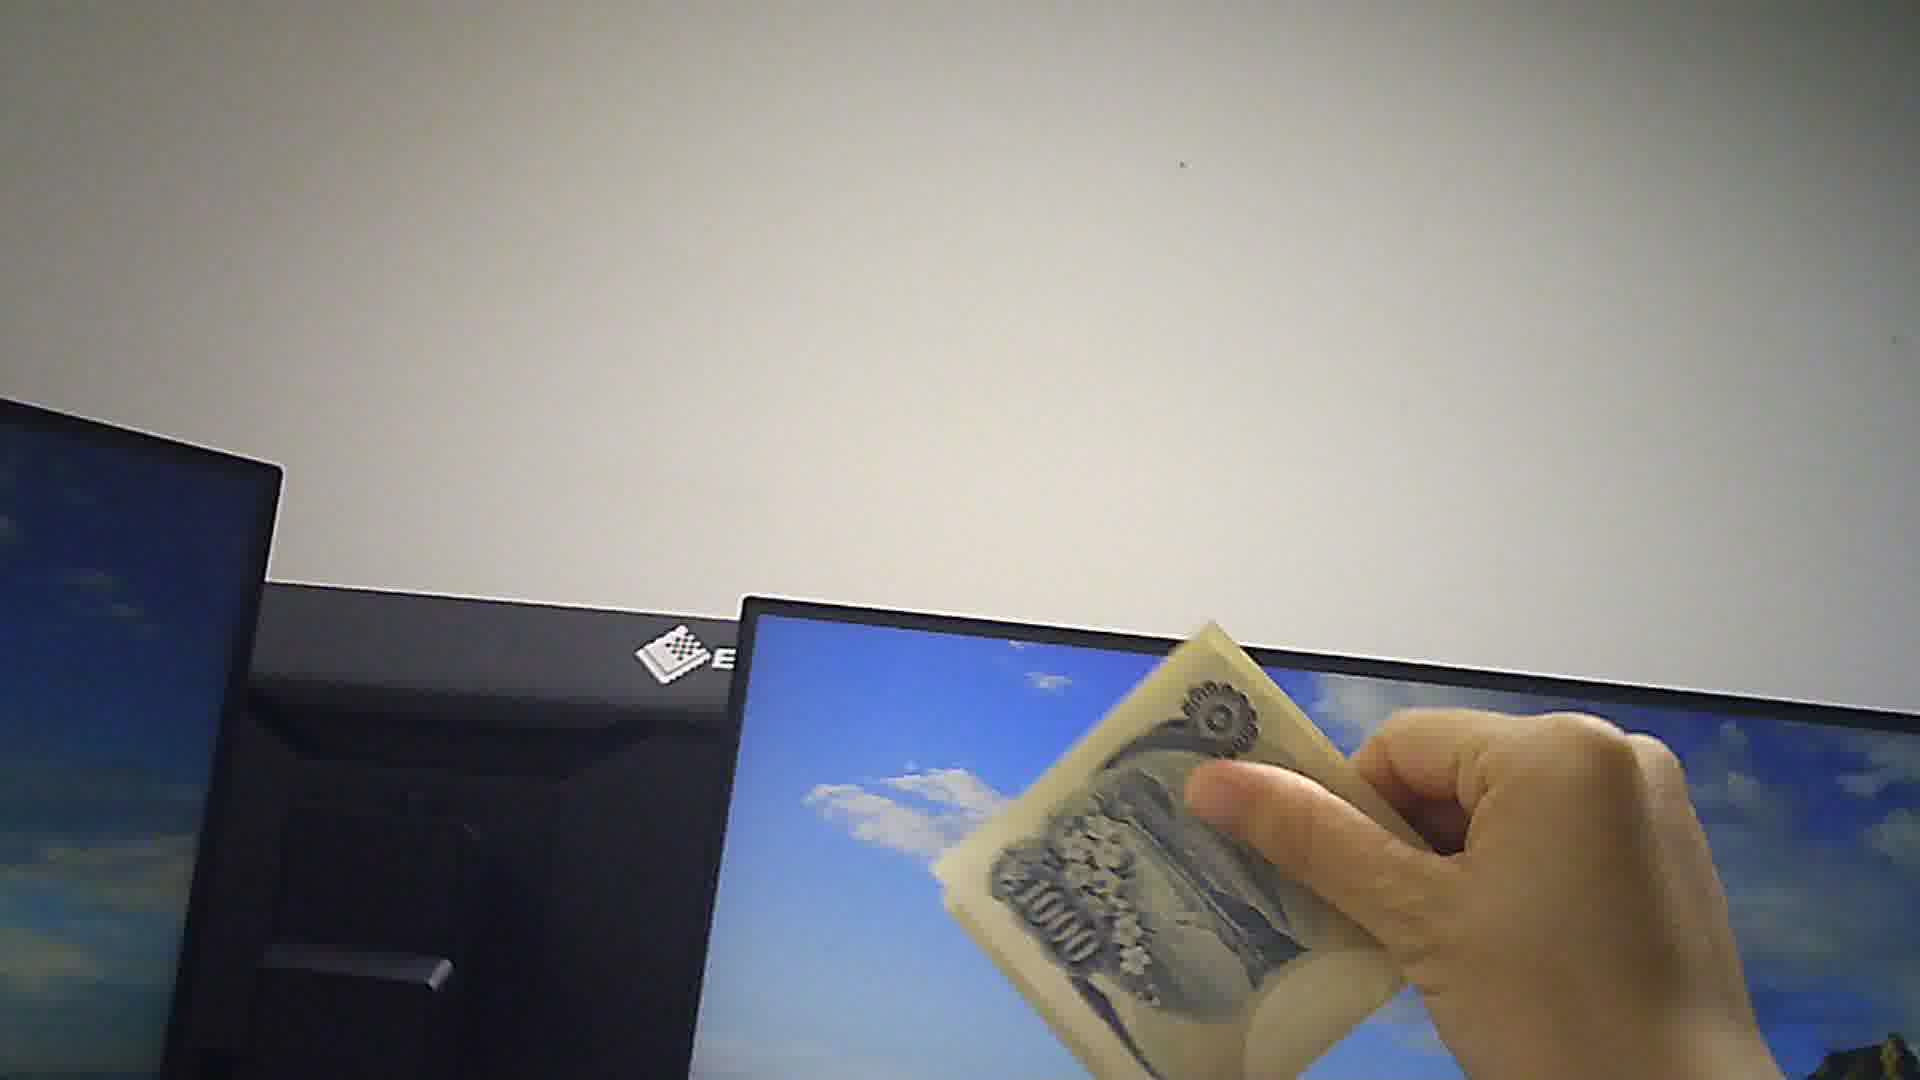1,000 Yen: (902, 618, 1468, 1079)
